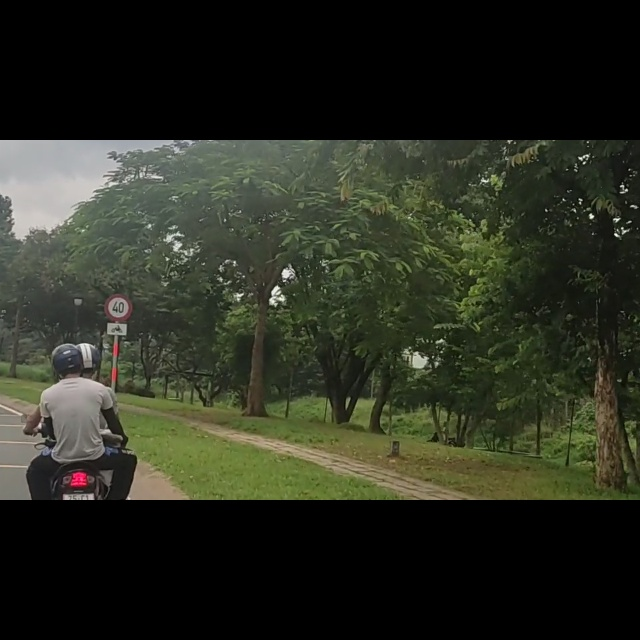Tốc độ tối đa cho phép 40km/h: (104, 294, 132, 322)
